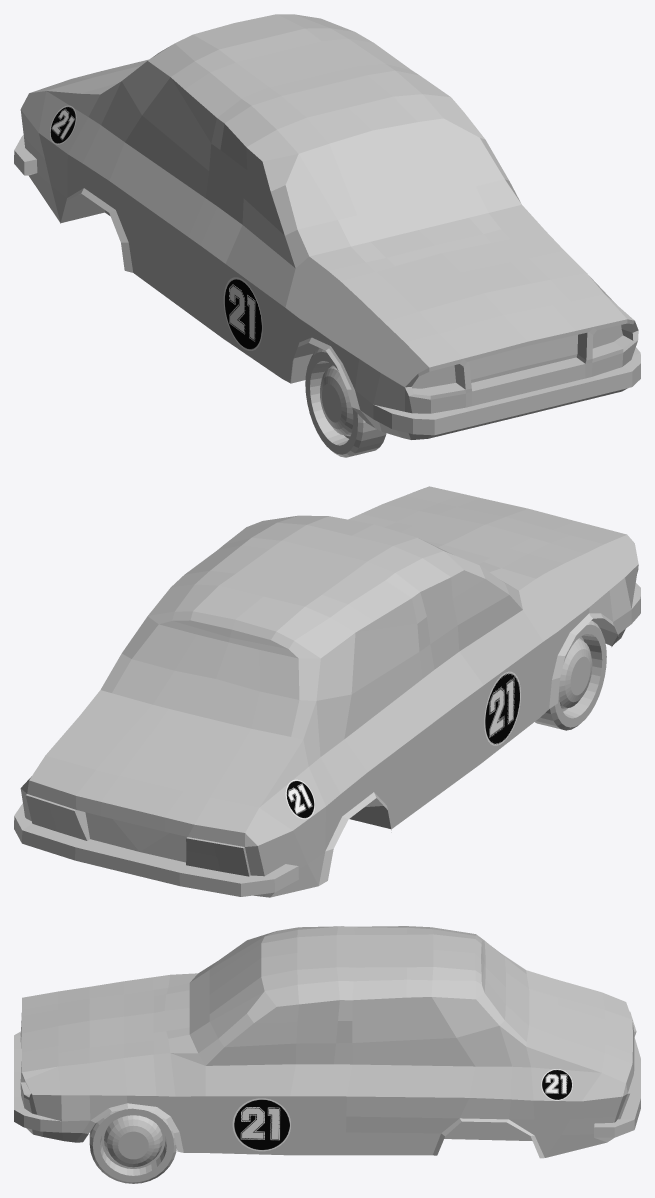
Rendered from dacia.fbx.
The picture shows the model from 3 angles, top to bottom: view 1: azimuth 30°, elevation 25°; view 2: azimuth 150°, elevation 25°; view 3: azimuth 270°, elevation 25°; orthographic projection. The views are drawn at different scales.
Parts seen in each view (by area): view 1: Dacia, RoataDreaptaDaacie, Cylinder.007, Cylinder.009; view 2: Dacia, RoataDreaptaDaacie, Cylinder.007, Cylinder.009; view 3: Dacia, RoataStangaDacie, Cylinder.006, Cylinder.008.
Part boxes in pixels (<box>): Dacia: <box>14,14,640,439</box>; RoataDreaptaDaacie: <box>305,348,386,457</box>; Cylinder.007: <box>223,277,262,350</box>; Cylinder.009: <box>50,105,76,144</box>; Dacia: <box>14,486,640,897</box>; RoataDreaptaDaacie: <box>535,620,606,730</box>; Cylinder.007: <box>484,671,520,745</box>; Cylinder.009: <box>285,779,314,819</box>; Dacia: <box>14,926,640,1158</box>; RoataStangaDacie: <box>89,1108,176,1183</box>; Cylinder.006: <box>232,1098,290,1151</box>; Cylinder.008: <box>541,1069,572,1100</box>.
Size of the model in its own units: 2.82 by 2.41 by 7.28.
